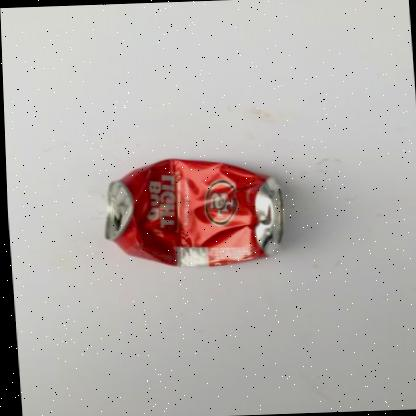Metal: (103, 158, 282, 266)
